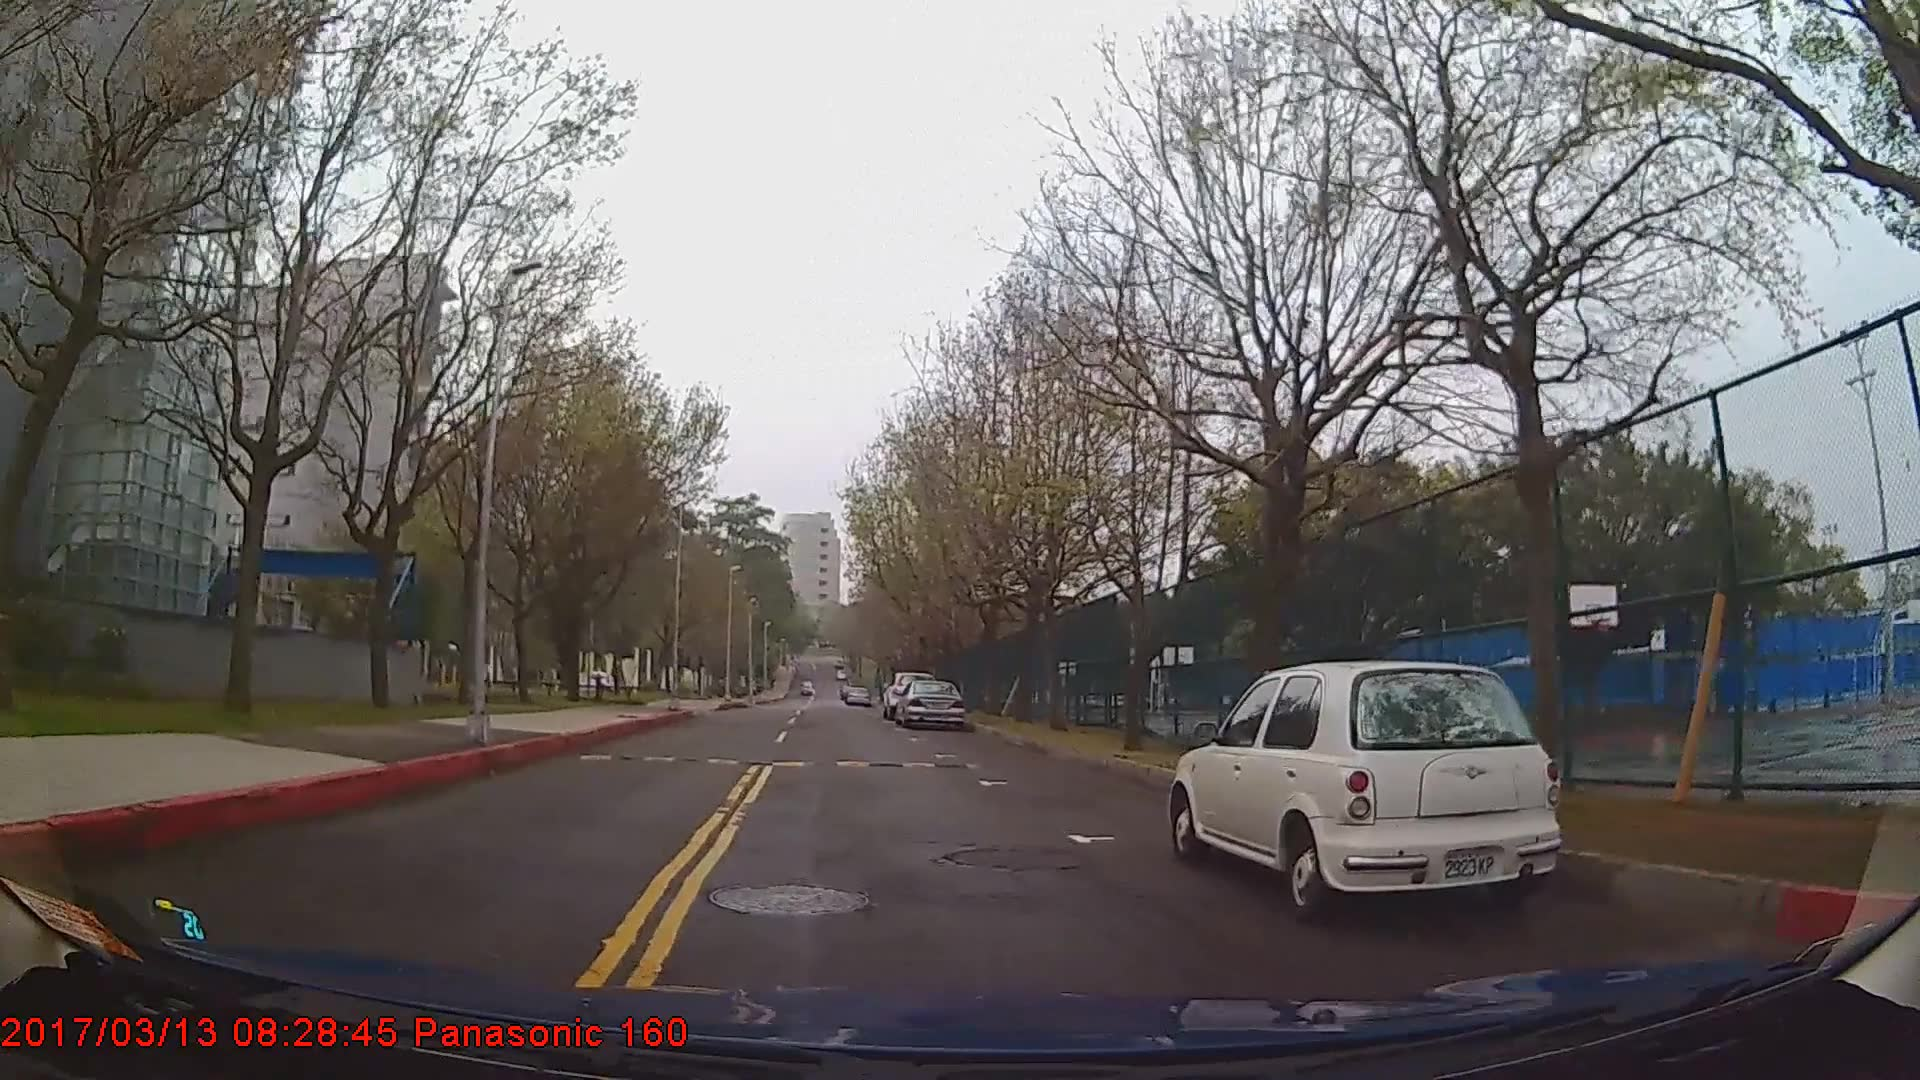vehicle: (1167, 657, 1568, 924), (894, 676, 967, 727)
